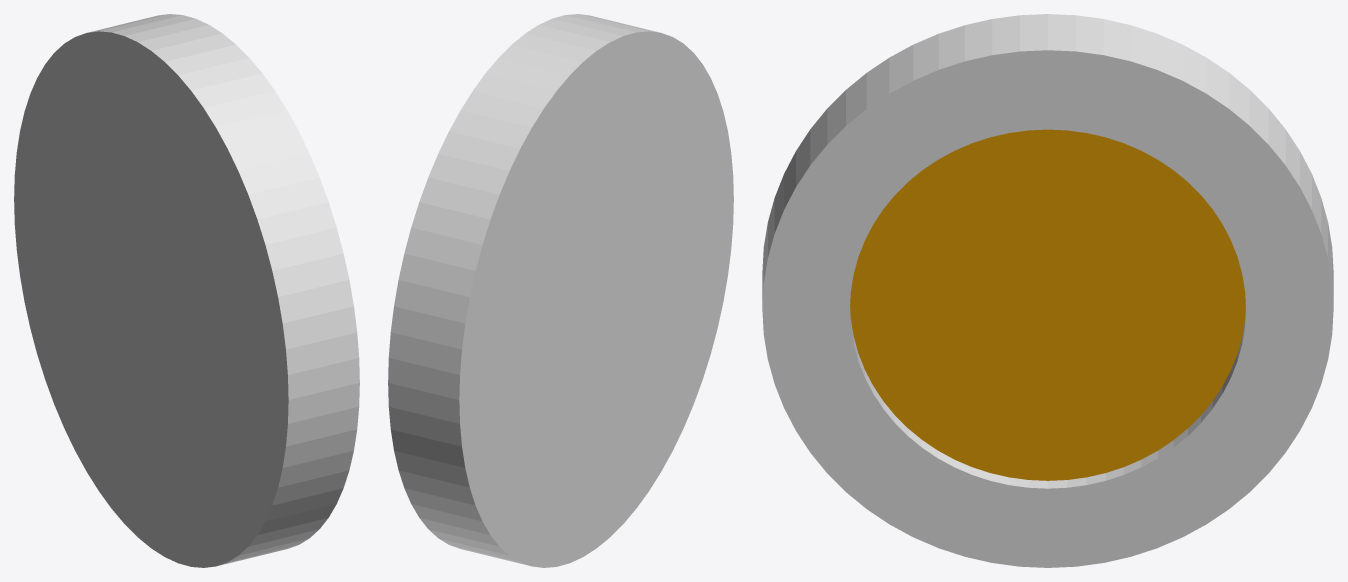
The model's file is Gold.fbx.
3 renders of one model, left to right at view 1: azimuth 30°, elevation 25°; view 2: azimuth 150°, elevation 25°; view 3: azimuth 270°, elevation 25°, orthographic. The views are drawn at different scales.
Parts seen in each view (by area): view 1: 실린더; view 2: 실린더; view 3: 실린더.
Part boxes in pixels (<box>): 실린더: <box>14,14,359,567</box>; 실린더: <box>388,14,733,567</box>; 실린더: <box>762,14,1333,567</box>.
Size of the model in its own units: 30 by 200 by 200.
